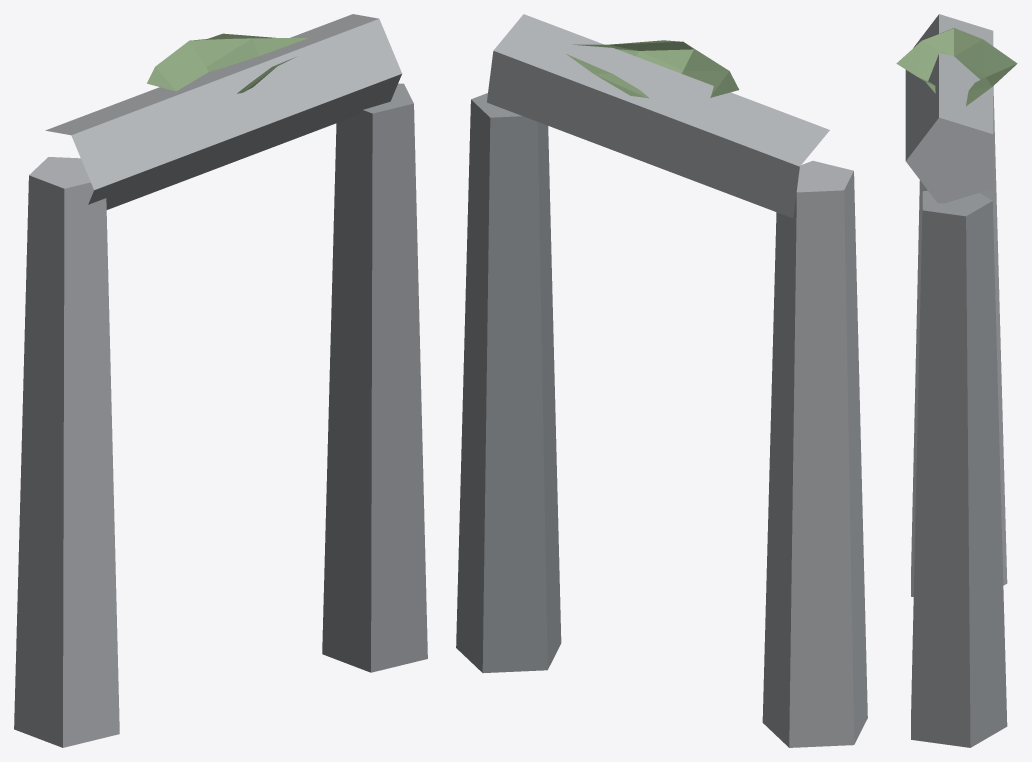
The model's file is arch_rock_v06.glb.
The picture shows the model from 3 angles, left to right: view 1: azimuth 30°, elevation 25°; view 2: azimuth 150°, elevation 25°; view 3: azimuth 270°, elevation 25°; orthographic projection. The views are drawn at different scales.
Parts seen in each view (by area): view 1: lod0; view 2: lod0; view 3: lod0.
Boxes of the visible parts, x1,y1,x2,y2 form: lod0: (14, 14, 427, 747); lod0: (456, 14, 867, 747); lod0: (896, 14, 1017, 747).
Size of what is drawn, in the model's own units: 1.82 by 2.84 by 0.5023.
